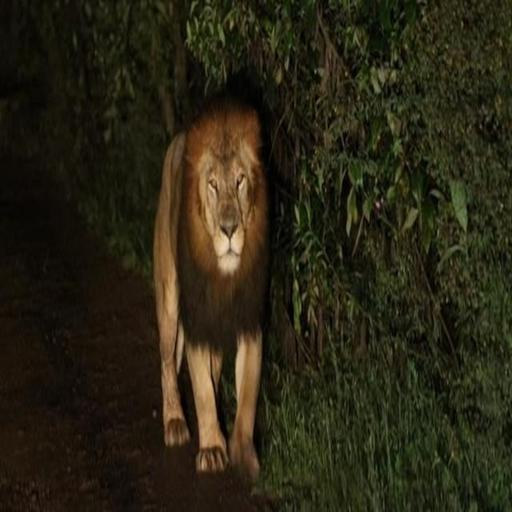Lion: (138, 99, 290, 493)
